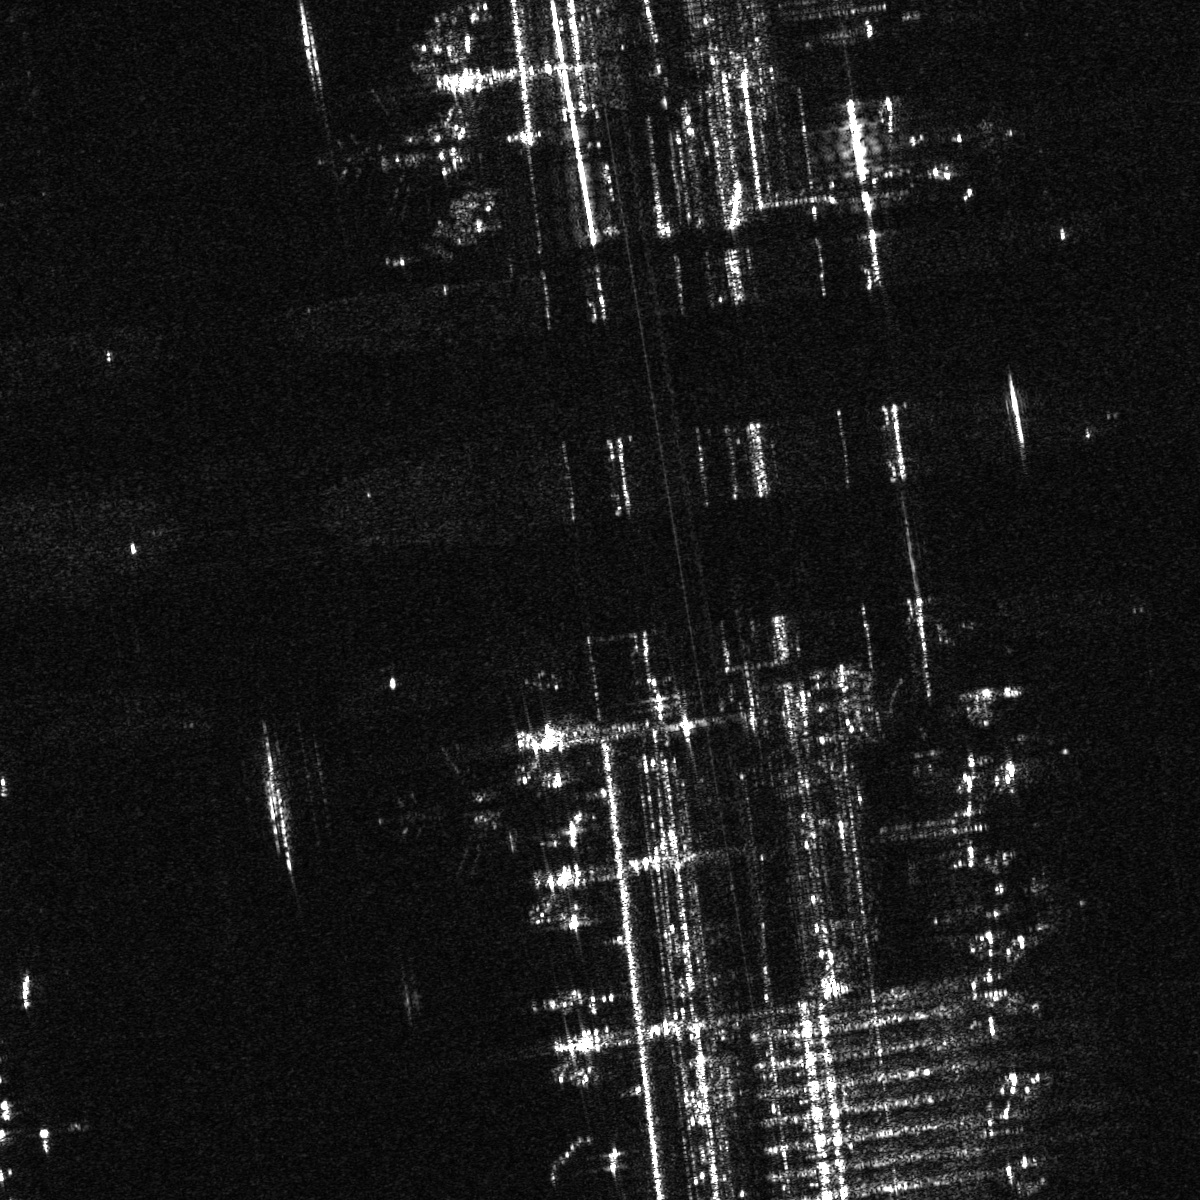A330: (318, 95, 433, 216)
other: (375, 743, 516, 891)
